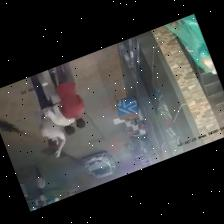person: (30, 75, 64, 156), (41, 70, 74, 134), (55, 63, 84, 127), (34, 165, 44, 189), (38, 189, 44, 203)
